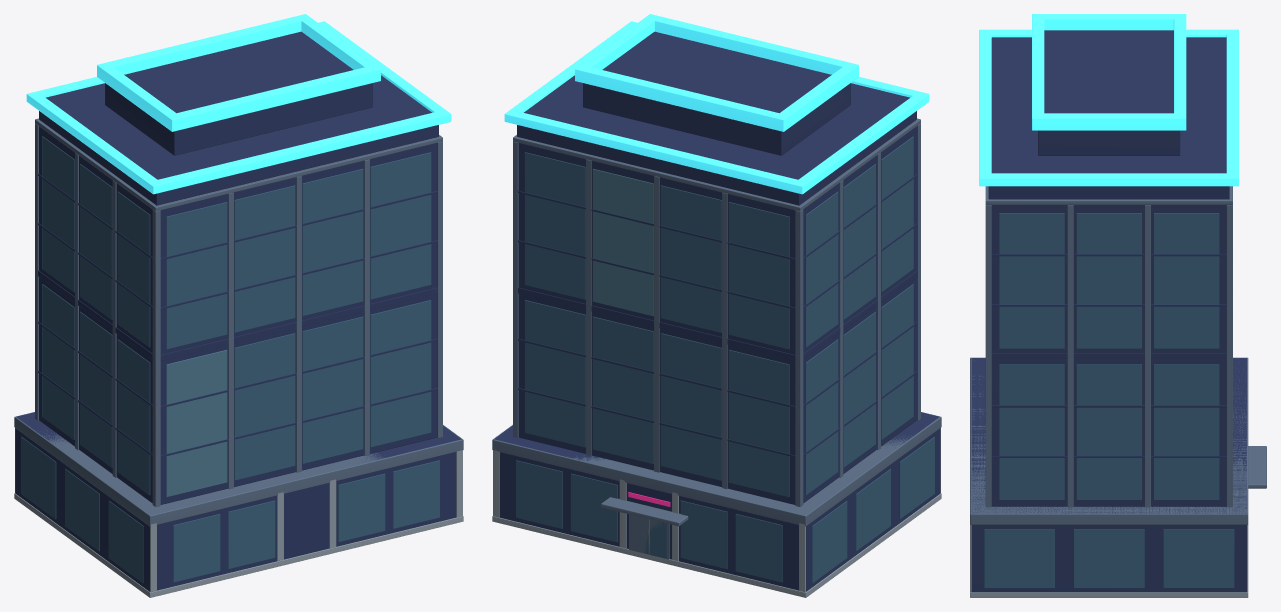
The model's file is d04_towers_04.glb.
3 views of the same model, side by side, from view 1: azimuth 30°, elevation 25°; view 2: azimuth 150°, elevation 25°; view 3: azimuth 270°, elevation 25° (orthographic). The views are drawn at different scales.
Visible parts, largest first — view 1: D04Towers04_Facade, D04Towers04_Crown, D04Towers04_Lobby; view 2: D04Towers04_Facade, D04Towers04_Crown, D04Towers04_Lobby; view 3: D04Towers04_Facade, D04Towers04_Crown, D04Towers04_Lobby.
Part boxes in pixels (x1,y1,x2,y2): D04Towers04_Facade: (35, 123, 442, 506); D04Towers04_Crown: (26, 14, 451, 211); D04Towers04_Lobby: (14, 412, 463, 597); D04Towers04_Facade: (513, 123, 920, 506); D04Towers04_Crown: (504, 14, 929, 211); D04Towers04_Lobby: (492, 412, 941, 597); D04Towers04_Facade: (985, 204, 1232, 507); D04Towers04_Crown: (979, 14, 1238, 204); D04Towers04_Lobby: (970, 357, 1266, 597).
Bounding box in the file's own units: 24 × 32.4 × 19.2.
